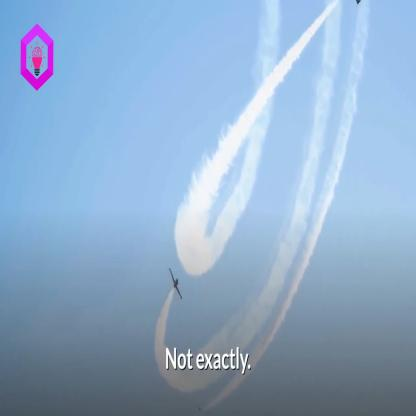plane: (167, 262, 188, 307)
